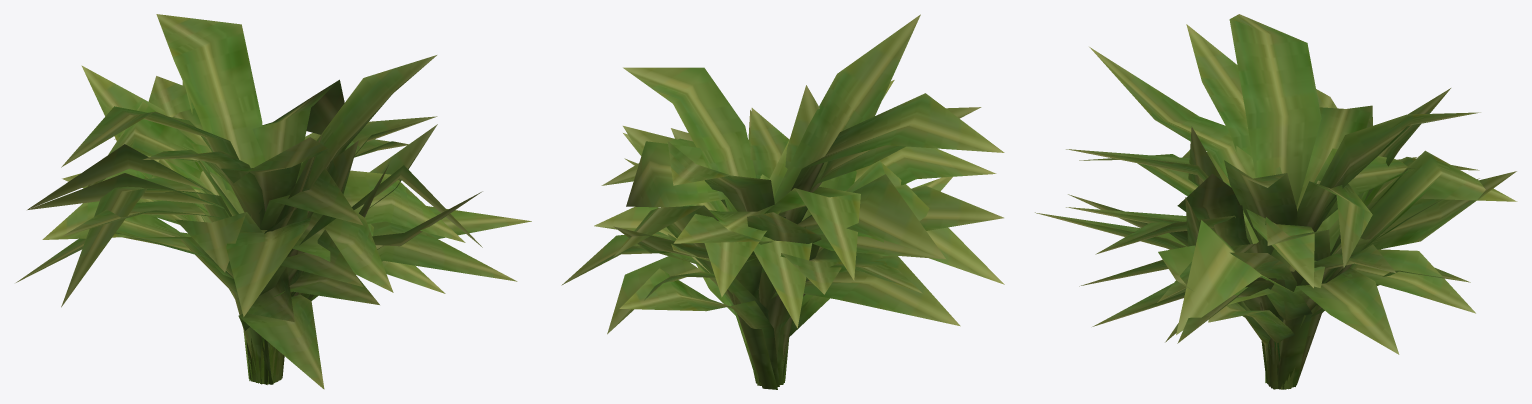
Rendered from plants.glb.
The picture shows the model from 3 angles, left to right: view 1: azimuth 30°, elevation 25°; view 2: azimuth 150°, elevation 25°; view 3: azimuth 270°, elevation 25°; orthographic projection. The views are drawn at different scales.
Parts seen in each view (by area): view 1: corn_05, corn_08, corn_10, corn_11, corn_03, corn_01, corn_04, corn_09, corn_02, corn_00, corn_07, corn_06; view 2: corn_05, corn_08, corn_04, corn_07, corn_01, corn_06, corn_10, corn_11, corn_02, corn_03, corn_09, corn_00; view 3: corn_05, corn_08, corn_07, corn_03, corn_01, corn_02, corn_06, corn_11, corn_00, corn_10, corn_09, corn_04.
Part boxes in pixels (left/top/right/bottom): corn_05: left=61, top=14, right=436, bottom=380; corn_08: left=87, top=79, right=465, bottom=384; corn_10: left=61, top=76, right=437, bottom=381; corn_11: left=62, top=133, right=517, bottom=384; corn_03: left=114, top=108, right=408, bottom=382; corn_01: left=42, top=140, right=531, bottom=384; corn_04: left=16, top=232, right=382, bottom=389; corn_09: left=81, top=65, right=388, bottom=383; corn_02: left=28, top=81, right=482, bottom=384; corn_00: left=61, top=124, right=437, bottom=380; corn_07: left=27, top=87, right=482, bottom=247; corn_06: left=144, top=133, right=445, bottom=384; corn_05: left=623, top=67, right=1004, bottom=382; corn_08: left=626, top=14, right=920, bottom=383; corn_04: left=619, top=254, right=960, bottom=386; corn_07: left=613, top=174, right=945, bottom=305; corn_01: left=607, top=108, right=922, bottom=385; corn_06: left=561, top=85, right=856, bottom=383; corn_10: left=623, top=126, right=1004, bottom=385; corn_11: left=594, top=146, right=996, bottom=294; corn_02: left=613, top=128, right=952, bottom=389; corn_03: left=601, top=107, right=981, bottom=382; corn_09: left=747, top=110, right=910, bottom=380; corn_00: left=623, top=133, right=1003, bottom=377; corn_05: left=1066, top=14, right=1480, bottom=244; corn_08: left=1089, top=47, right=1372, bottom=388; corn_07: left=1176, top=89, right=1517, bottom=334; corn_03: left=1095, top=24, right=1414, bottom=389; corn_01: left=1177, top=173, right=1475, bottom=389; corn_02: left=1068, top=171, right=1516, bottom=389; corn_06: left=1165, top=126, right=1399, bottom=388; corn_11: left=1079, top=154, right=1418, bottom=377; corn_00: left=1035, top=178, right=1479, bottom=291; corn_10: left=1066, top=157, right=1479, bottom=389; corn_09: left=1182, top=88, right=1450, bottom=389; corn_04: left=1079, top=259, right=1470, bottom=387.
Size of the model in its own units: 0.8892 by 0.6455 by 0.9031.
1 material, 1 textured.
